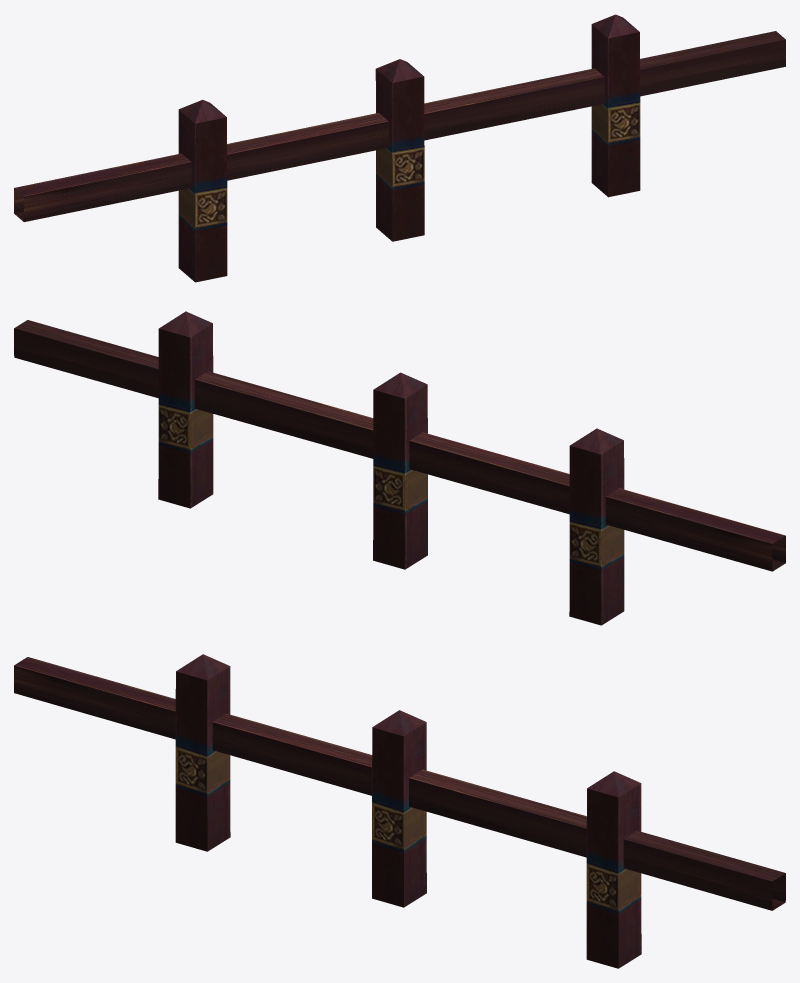
File: Yland2_bj_01 Yland2.FBX
The picture shows the model from 3 angles, top to bottom: view 1: azimuth 30°, elevation 25°; view 2: azimuth 150°, elevation 25°; view 3: azimuth 330°, elevation 25°; orthographic projection. The views are drawn at different scales.
Parts seen in each view (by area): view 1: Yland2_bj_01 Yland2; view 2: Yland2_bj_01 Yland2; view 3: Yland2_bj_01 Yland2.
Boxes of the visible parts, box(x1,y1,x2,y2) form: Yland2_bj_01 Yland2: box(14, 14, 785, 282); Yland2_bj_01 Yland2: box(14, 311, 785, 625); Yland2_bj_01 Yland2: box(14, 654, 785, 968).
Size of the model in its own units: 3.99 by 0.8945 by 0.3833.
